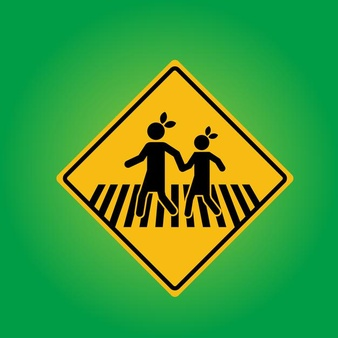pedestrian: (65, 76, 279, 269)
